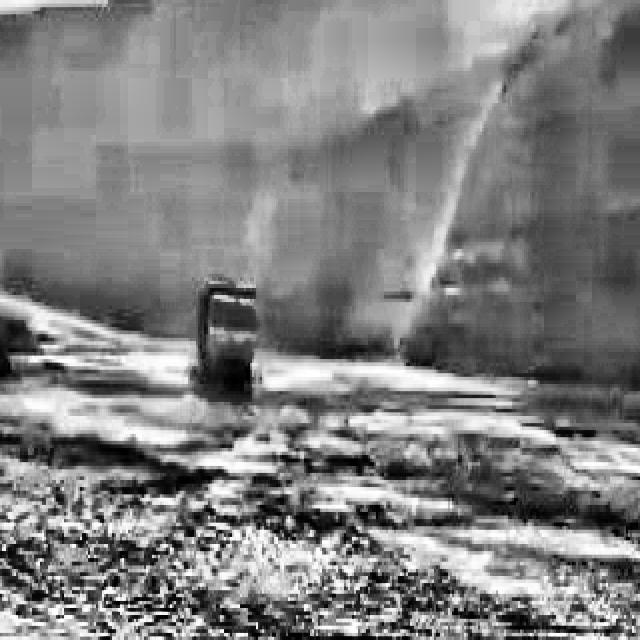dump_truck: (194, 286, 262, 392)
